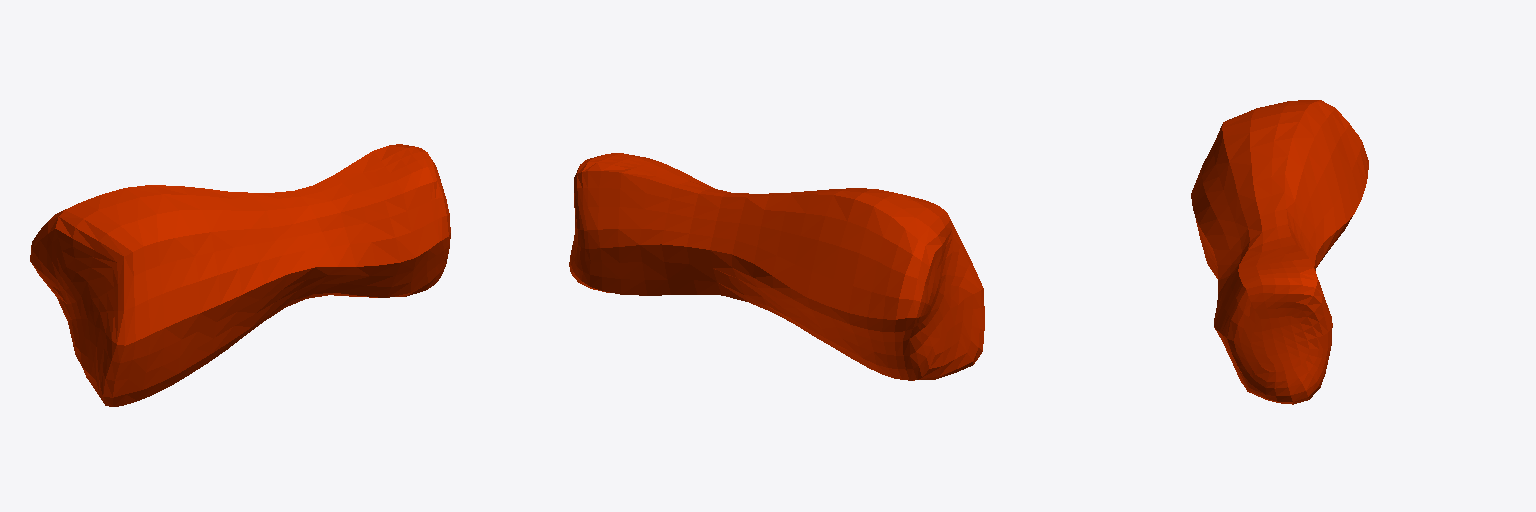
The model's file is L_L_Arm.obj.
3 views of the same model, side by side, from view 1: azimuth 30°, elevation 25°; view 2: azimuth 150°, elevation 25°; view 3: azimuth 270°, elevation 25° (orthographic).
Parts seen in each view (by area): view 1: L_L_Arm_Alpha_Surface.013; view 2: L_L_Arm_Alpha_Surface.013; view 3: L_L_Arm_Alpha_Surface.013.
Boxes of the visible parts, box(x1,y1,x2,y2) form: L_L_Arm_Alpha_Surface.013: box(30, 144, 450, 406); L_L_Arm_Alpha_Surface.013: box(569, 153, 984, 380); L_L_Arm_Alpha_Surface.013: box(1191, 100, 1368, 404).
Bounding box in the file's own units: 0.2675 × 0.119 × 0.1091.